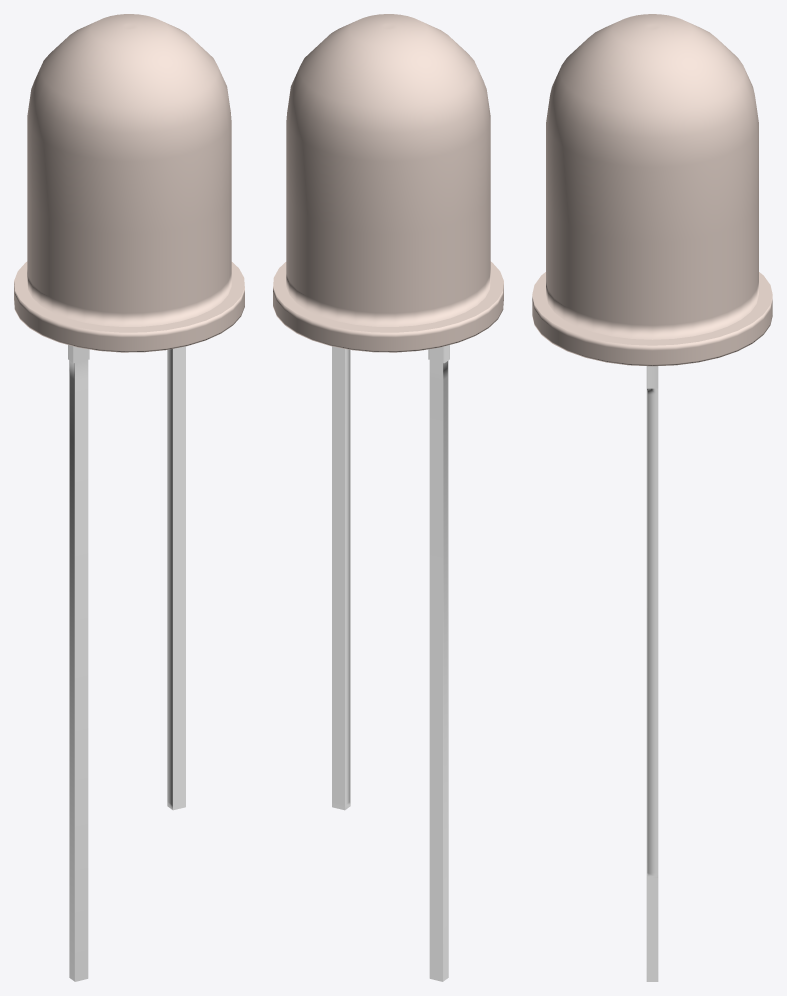
File: led .fbx
The picture shows the model from 3 angles, left to right: view 1: azimuth 30°, elevation 25°; view 2: azimuth 150°, elevation 25°; view 3: azimuth 270°, elevation 25°; orthographic projection. The views are drawn at different scales.
Visible parts, largest first — view 1: Cylinder; view 2: Cylinder; view 3: Cylinder.
Boxes of the visible parts, left/top/right/bottom form: Cylinder: left=14, top=14, right=244, bottom=981; Cylinder: left=273, top=14, right=503, bottom=981; Cylinder: left=532, top=14, right=772, bottom=981.
Size of the model in its own units: 96.89 by 434 by 96.89.
